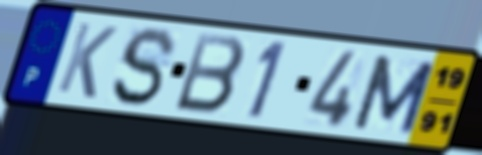1: (248, 39, 289, 122)
4: (305, 48, 360, 130)
B: (171, 30, 248, 117)
K: (53, 19, 120, 102)
M: (348, 52, 439, 138)
S: (108, 25, 180, 110)
